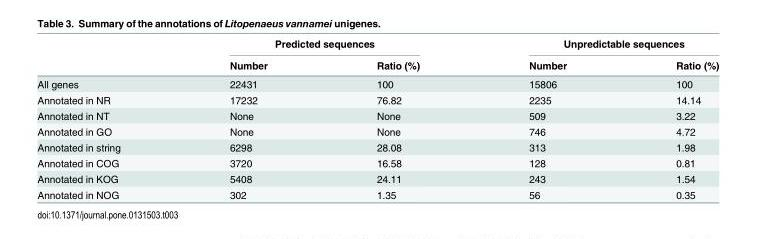table: (36, 37, 718, 200)
table column: (321, 37, 473, 200), (174, 37, 321, 200), (473, 37, 620, 200), (36, 37, 174, 200), (620, 37, 718, 200)
table column header: (36, 37, 718, 74)
table row: (36, 53, 718, 74), (36, 74, 718, 91), (36, 37, 718, 53), (36, 91, 718, 107), (36, 107, 718, 123), (36, 123, 718, 139), (36, 154, 718, 170), (36, 170, 718, 186), (36, 139, 718, 154), (36, 186, 718, 200)
table spanning cell: (174, 37, 473, 53), (473, 37, 718, 53)
